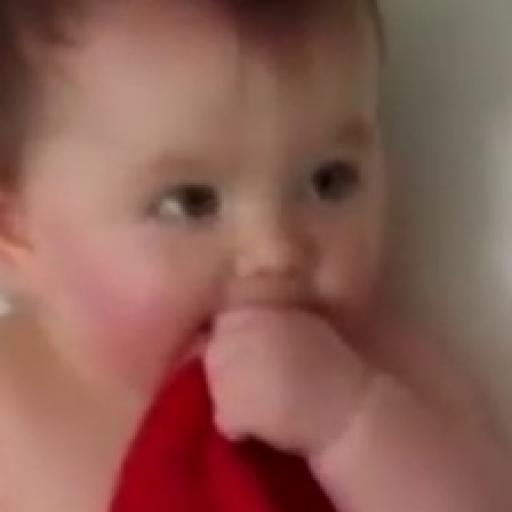Autism: (10, 23, 416, 413)
